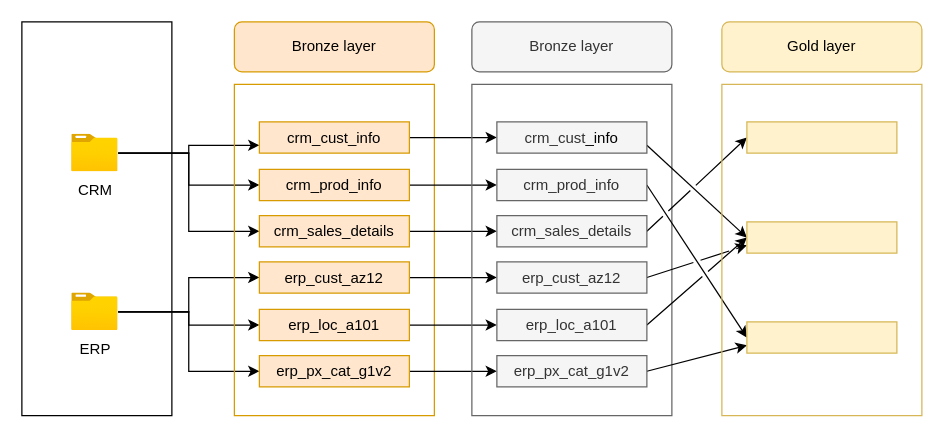
Image size: 944x438. Some labels were removed from this diagram. The centre of each missing label's shape, as x and y in pixels:
dim_customers: point 821,237
dim_products: point 821,337
fact_sales: point 821,137
